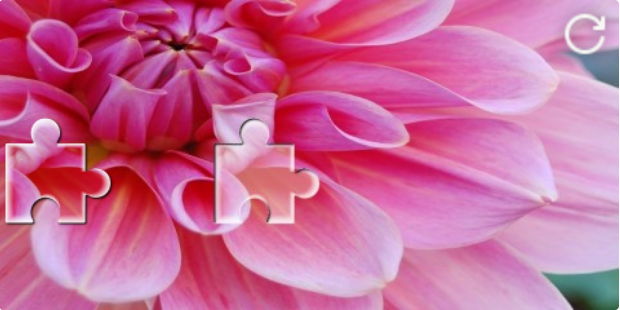target: (215, 119, 318, 223)
